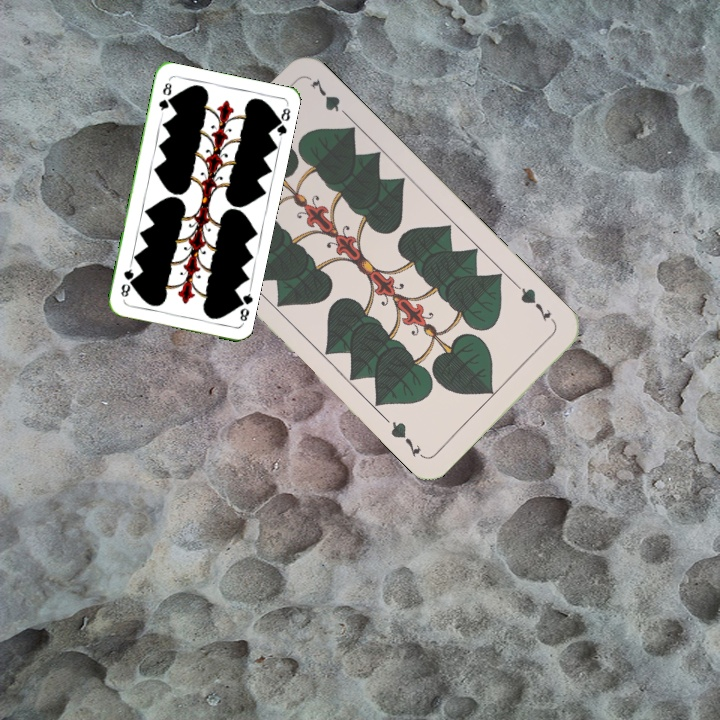G7: (512, 280, 558, 327)
G8: (232, 286, 255, 326), (155, 78, 174, 117)
